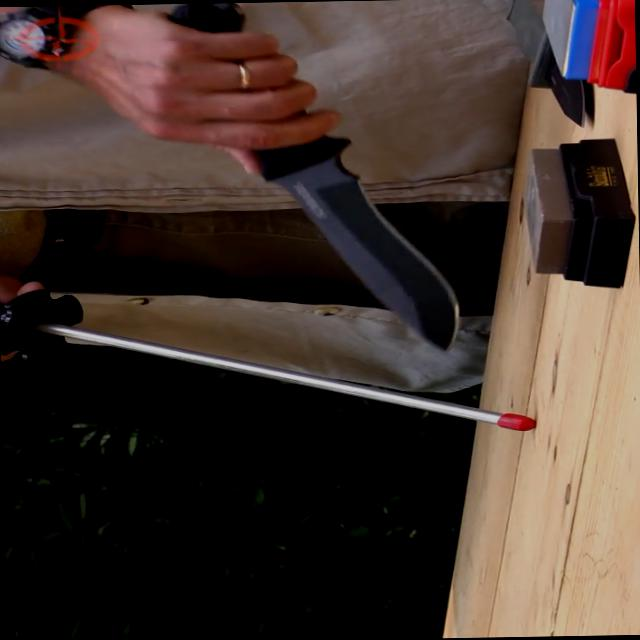knife: (145, 0, 481, 366)
